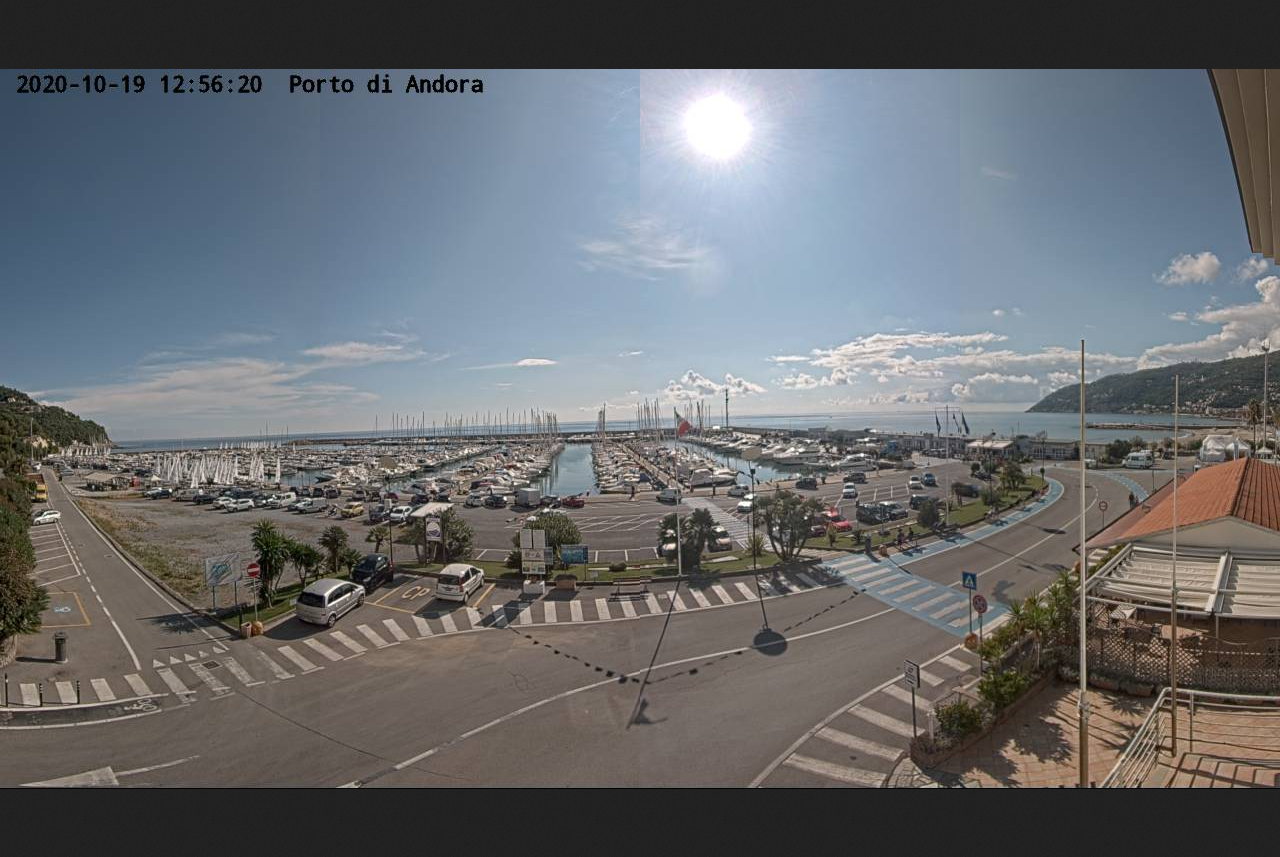maybe: (665, 409, 698, 438), (957, 407, 977, 438)
no: (932, 404, 944, 443)
